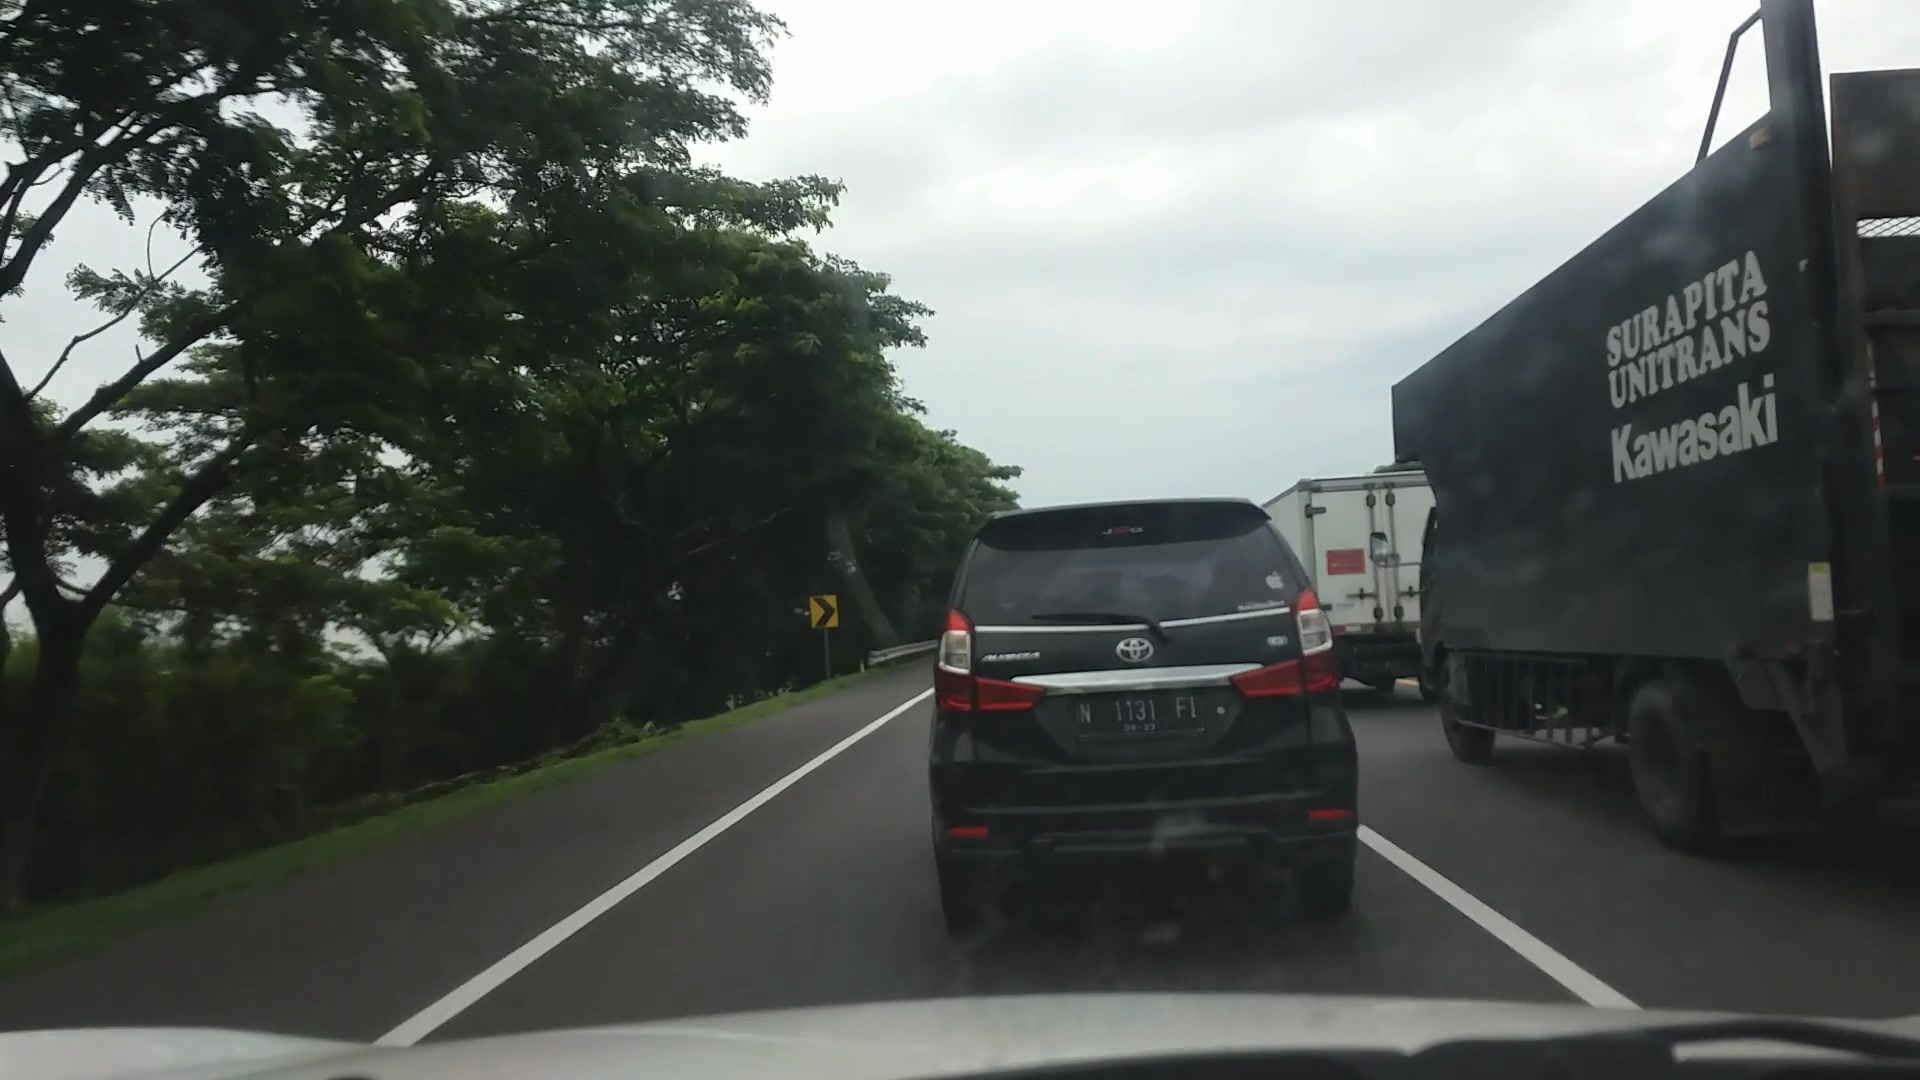plate_positive: (1073, 694, 1205, 735)
